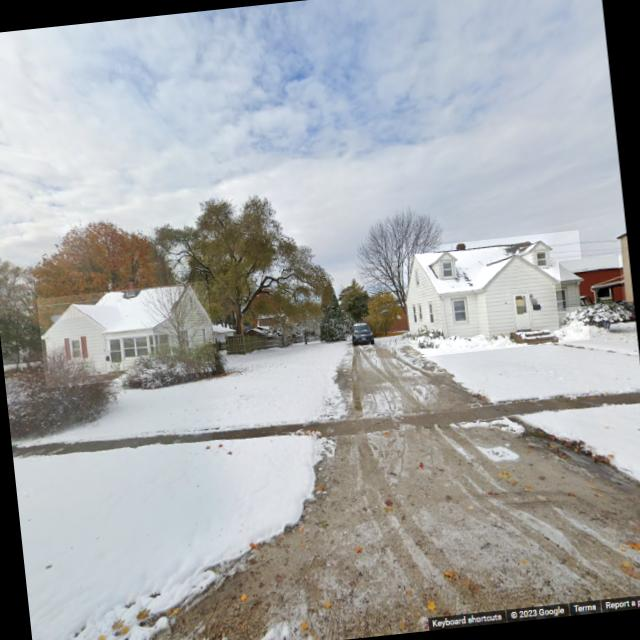House: (398, 230, 590, 358), (36, 281, 215, 388), (558, 255, 626, 308), (616, 232, 634, 302)
